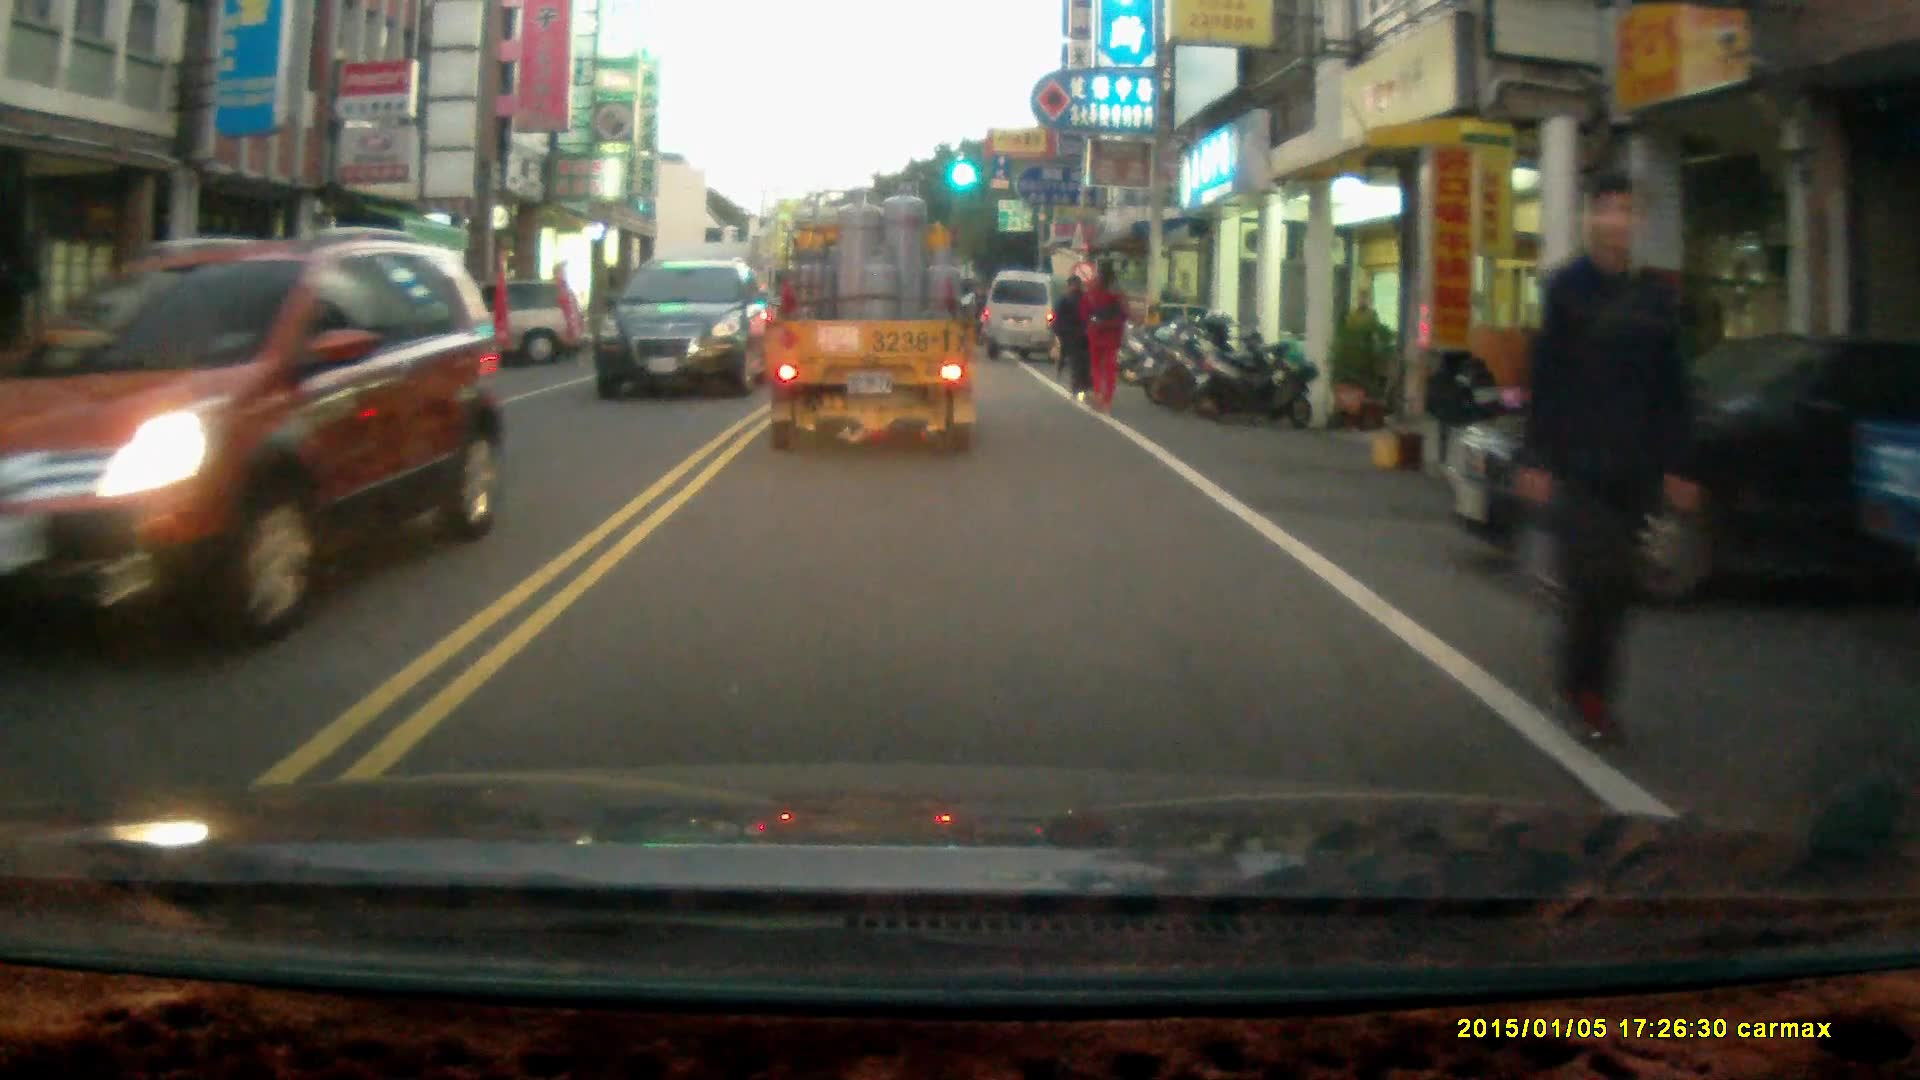pedestrian: (1517, 158, 1702, 762), (1083, 265, 1125, 411), (1057, 273, 1097, 400), (1343, 284, 1379, 378)
vehicle: (5, 225, 492, 667), (1436, 328, 1920, 608), (761, 186, 987, 471), (597, 261, 775, 403), (369, 278, 592, 370), (985, 266, 1074, 360)
